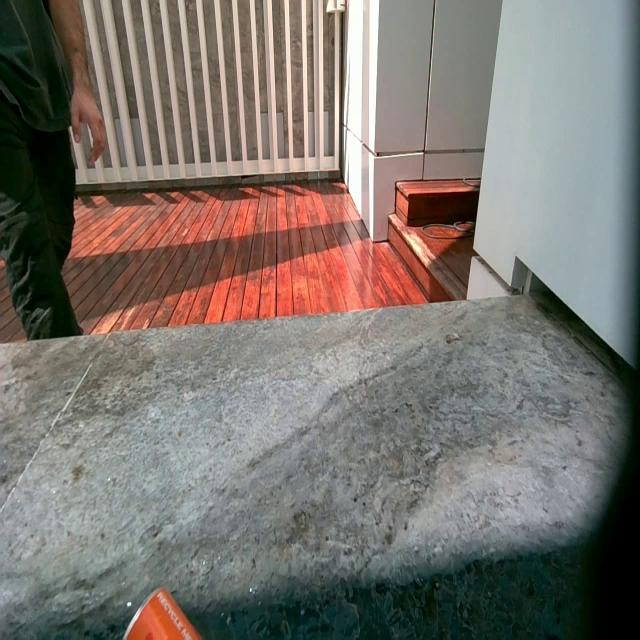Cans: (110, 590, 206, 640)
